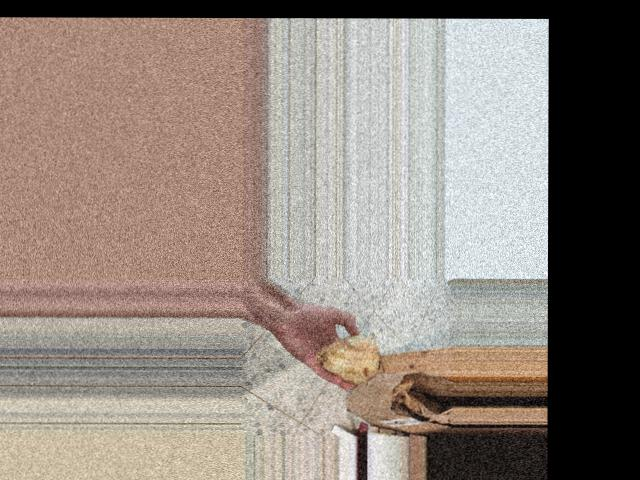onion: (320, 334, 386, 387)
